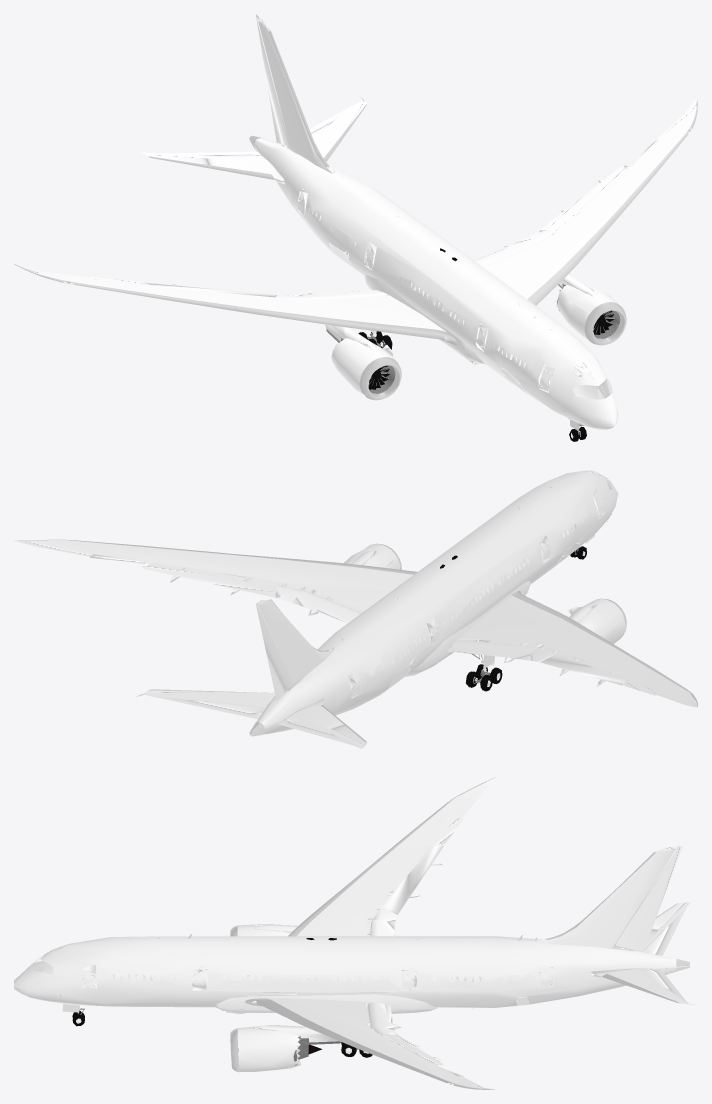
3 renders of one model, top to bottom at view 1: azimuth 30°, elevation 25°; view 2: azimuth 150°, elevation 25°; view 3: azimuth 270°, elevation 25°, orthographic. The views are drawn at different scales.
Visible parts, largest first — view 1: Object_6, Object_169; view 2: Object_6; view 3: Object_6, Object_169.
Boxes of the visible parts, x1,y1,x2,y2 form: Object_6: (14, 14, 697, 441); Object_169: (309, 207, 610, 397); Object_6: (14, 470, 697, 748); Object_6: (14, 777, 696, 1089); Object_169: (31, 956, 551, 981).
Bounding box in the file's own units: 61.24 × 16.73 × 56.7.
2 materials, 2 textured.
